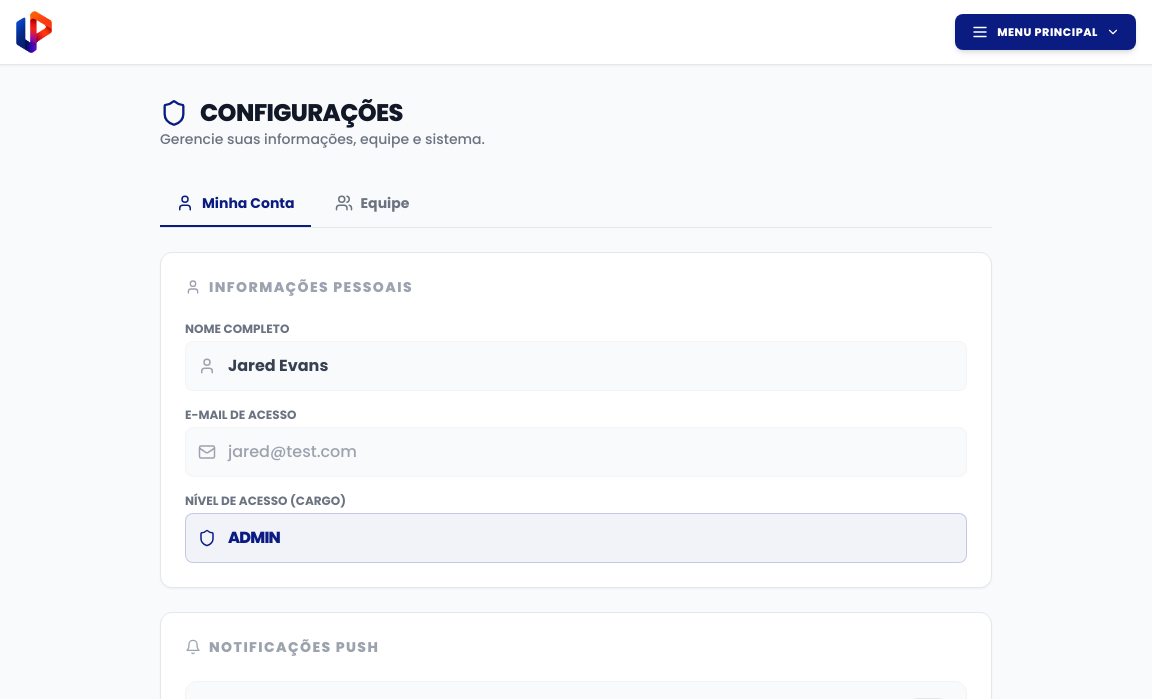
Test: SettingsPage › SettingsPage - Tabs & Team Management (QA RED) › T03 - deve abrir modal de convite ao clicar em "Convidar Membro" na aba Equipe
The width and height of the screenshot is (1152, 699).
# Muda para a aba Equipe
Click the tab "Equipe" at (372, 204), box [318, 181, 425, 227]
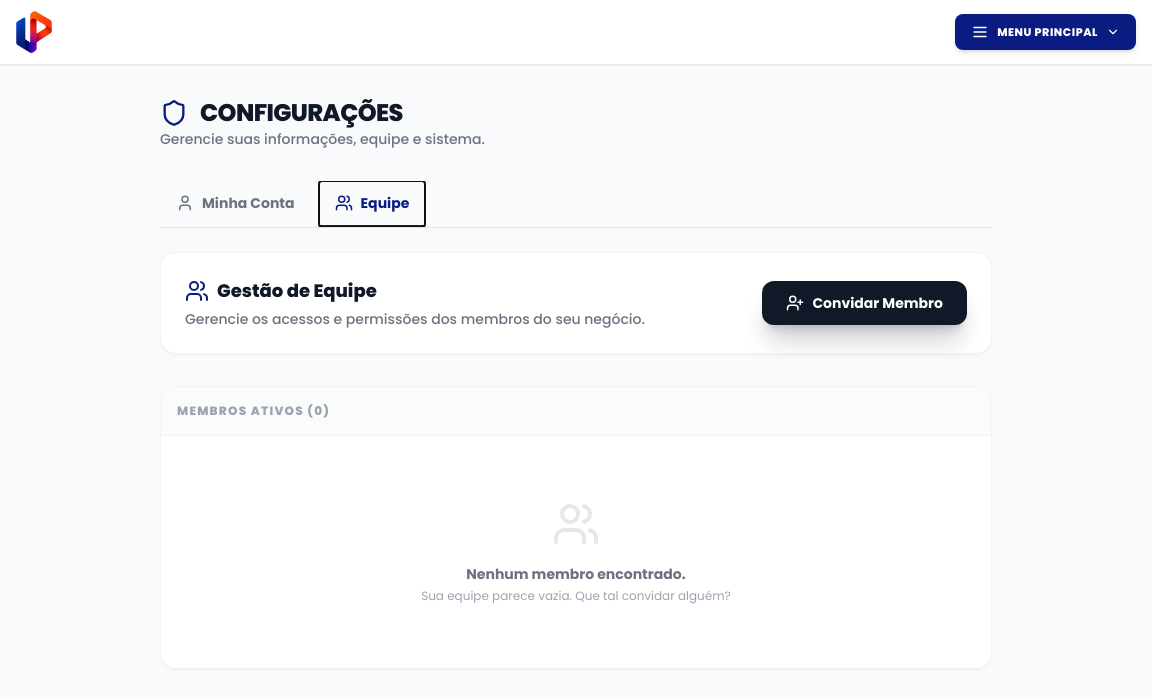
# Clica em Convidar Membro
Click the button "Convidar Membro" at (865, 303), box [762, 281, 967, 325]
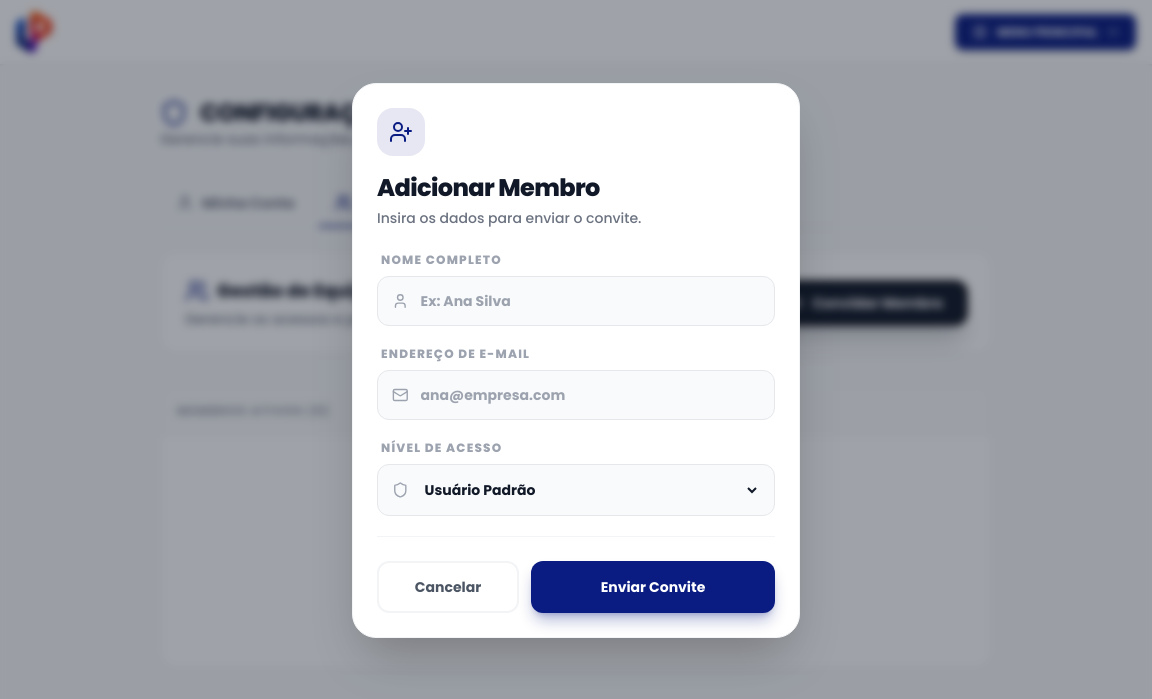
Expected: the dialog "Adicionar Membro" is shown, [352, 82, 800, 638]
Expected: the field labelled "Nome Completo" is shown, [421, 290, 760, 310]
Expected: the field labelled "Endereço de E-mail" is shown, [421, 384, 760, 404]
